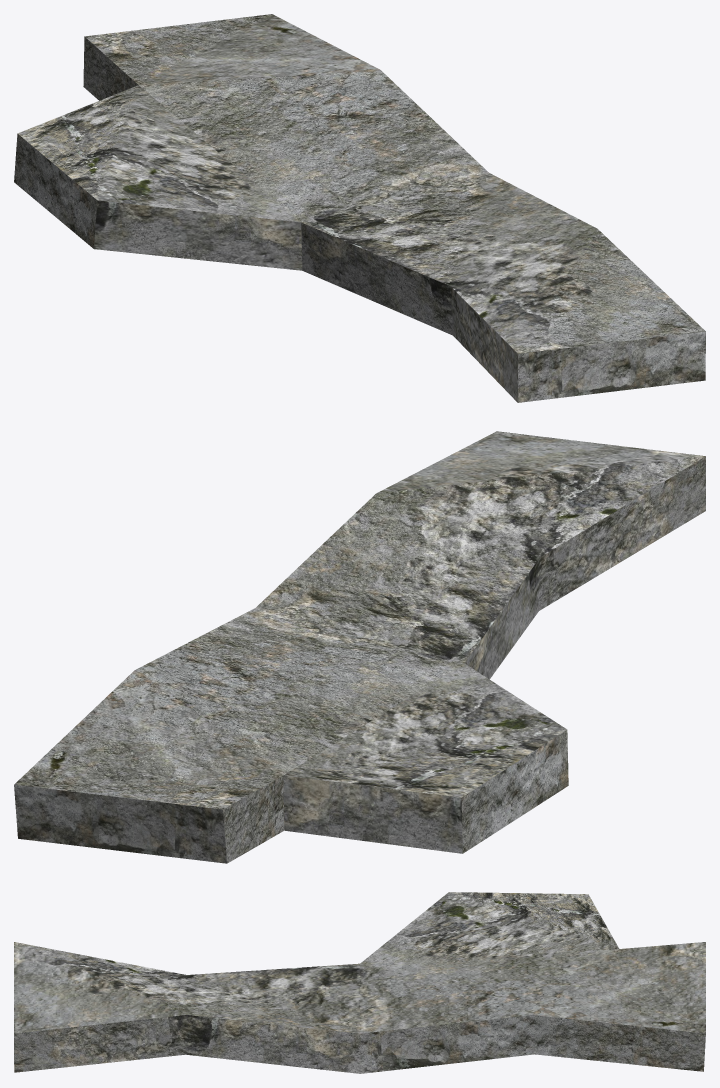
File: UWHoleEdge.fbx
3 views of the same model, one above another, from view 1: azimuth 30°, elevation 25°; view 2: azimuth 150°, elevation 25°; view 3: azimuth 270°, elevation 25° (orthographic). The views are drawn at different scales.
Visible parts, largest first — view 1: UWHoleEdge; view 2: UWHoleEdge; view 3: UWHoleEdge.
Part boxes in pixels (x1=…): UWHoleEdge: x1=14, y1=14, x2=705, y2=402; UWHoleEdge: x1=14, y1=431, x2=705, y2=863; UWHoleEdge: x1=14, y1=892, x2=705, y2=1073.
Bounding box in the file's own units: 363 × 77.82 × 800.
